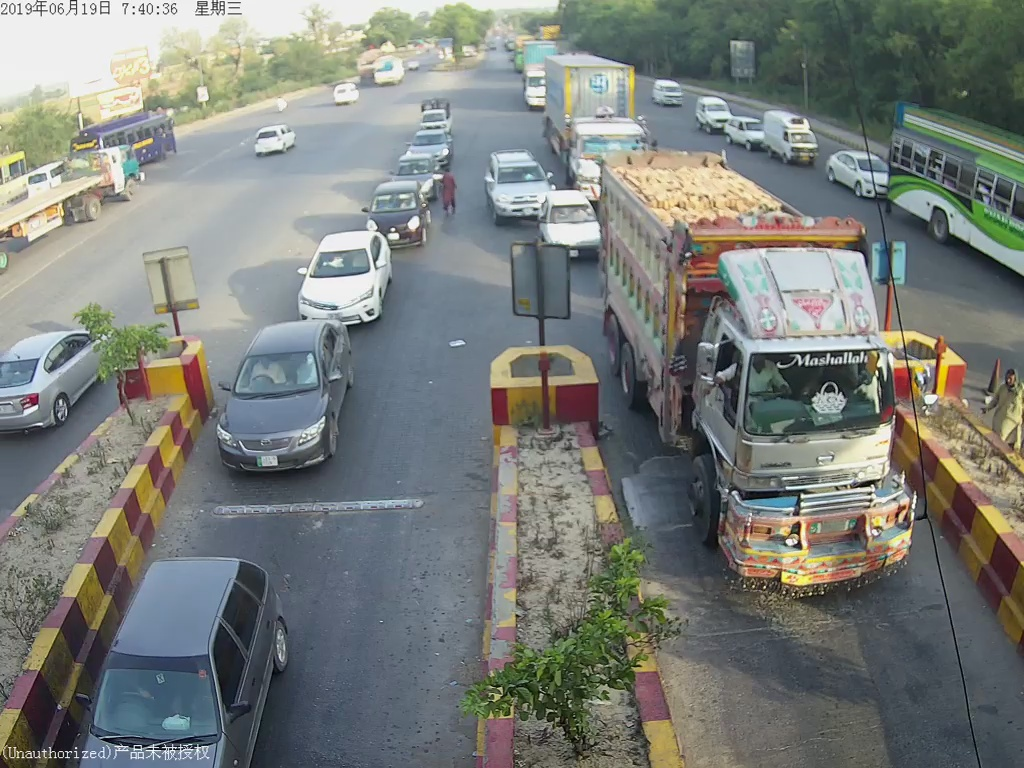Cat-1: (221, 325, 358, 473), (302, 234, 392, 327), (489, 154, 543, 222), (545, 193, 599, 259), (368, 184, 426, 239)
Cat-4: (633, 205, 934, 595)
